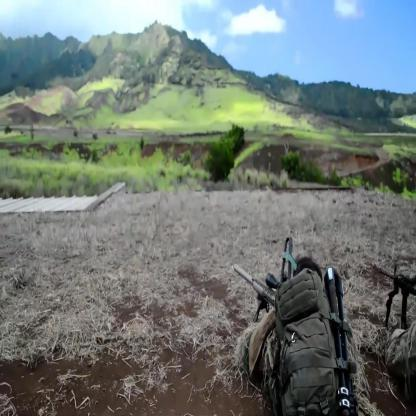Gun: (232, 256, 292, 328), (370, 259, 415, 330)
